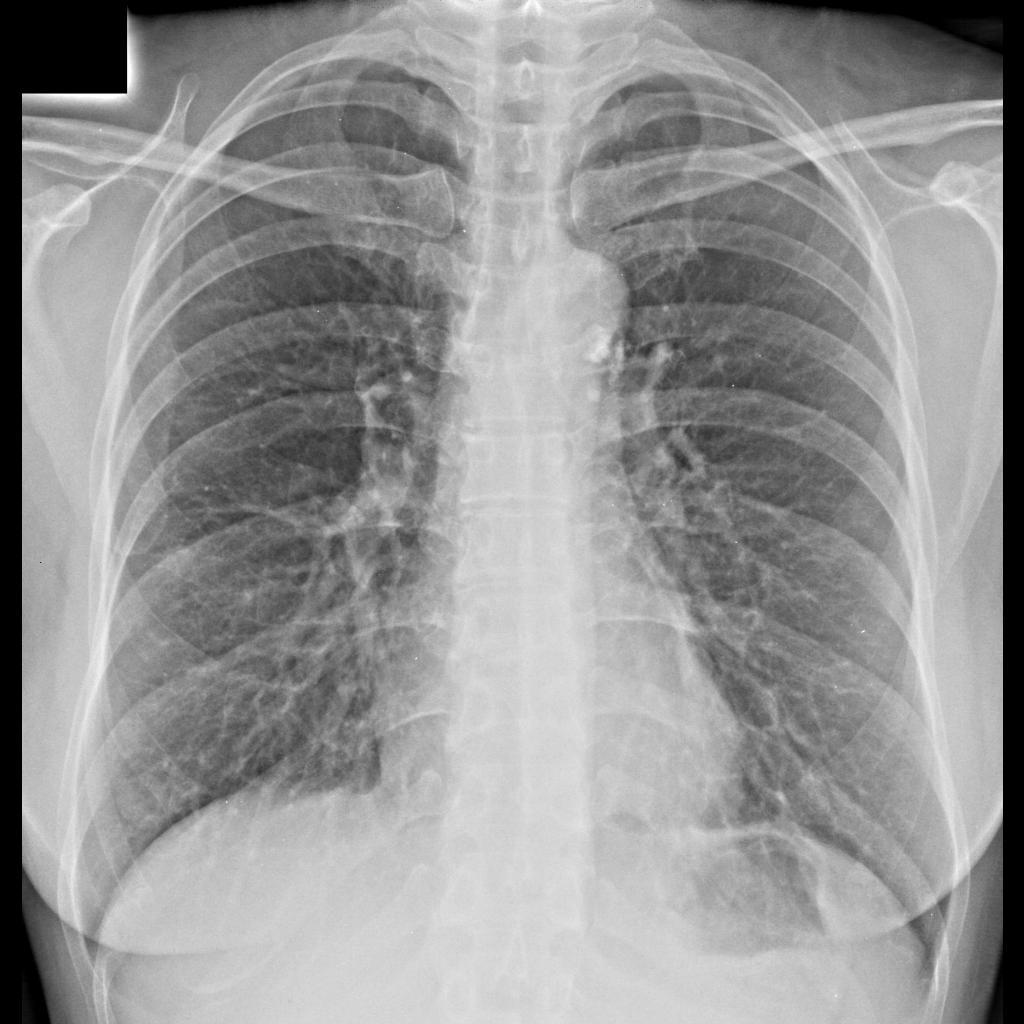Nodule: (147, 525, 216, 595)
